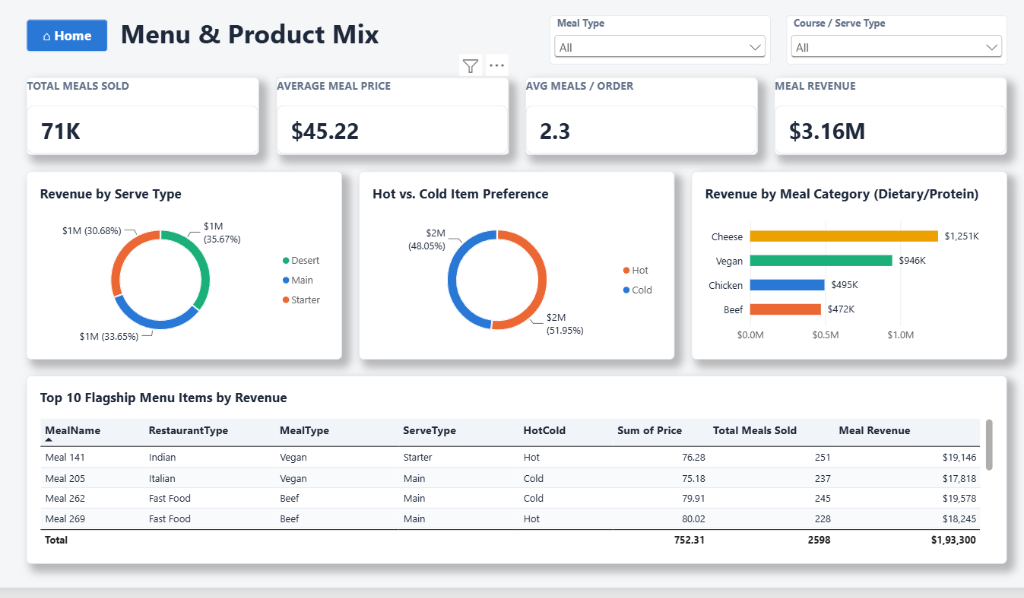

The page's visual inventory and layout, read from the dashboard file:
{"tool":"powerbi","page":{"name":"Menu","canvas":[1280,720],"ordinal":4},"visuals":[{"type":"actionButton","box":[40,25,100,40],"z":0},{"type":"textbox","box":[155,20,500,50],"z":1},{"type":"slicer","fields":{"Values":["meal_types.MealType"]},"box":[680,20,270,60],"z":2},{"type":"slicer","fields":{"Values":["serve_types.ServeType"]},"box":[970,20,270,60],"z":3},{"type":"cardVisual","title":"TOTAL MEALS SOLD","fields":{"Data":["KPI Measures.Total Meals Sold"]},"box":[40,95,285,95],"z":4},{"type":"cardVisual","title":"AVERAGE MEAL PRICE","fields":{"Data":["KPI Measures.Average Meal Price"]},"box":[345,95,285,95],"z":5},{"type":"cardVisual","title":"AVG MEALS / ORDER","fields":{"Data":["KPI Measures.Avg Meals per Completed Order"]},"box":[650,95,285,95],"z":6},{"type":"cardVisual","title":"MEAL REVENUE","fields":{"Data":["KPI Measures.Total Revenue"]},"box":[955,95,285,95],"z":7},{"type":"donutChart","title":"Revenue by Serve Type","fields":{"Category":["serve_types.ServeType"],"Y":["KPI Measures.Meal Revenue"]},"box":[40,210,386,230],"z":8},{"type":"donutChart","title":"Hot vs. Cold Item Preference","fields":{"Category":["meals.HotCold"],"Y":["KPI Measures.Meal Revenue"]},"box":[447,210,386,230],"z":9},{"type":"clusteredBarChart","title":"Revenue by Meal Category (Dietary/Protein)","fields":{"Category":["meal_types.MealType"],"Y":["KPI Measures.Meal Revenue"]},"box":[854,210,386,230],"z":10},{"type":"tableEx","title":"Top 10 Flagship Menu Items by Revenue","fields":{"Values":["meals.MealName","restaurant_types.RestaurantType","meal_types.MealType","serve_types.ServeType","meals.HotCold","Sum(meals.Price)","KPI Measures.Total Meals Sold","KPI Measures.Meal Revenue"]},"box":[40,460,1200,230],"z":11}]}

Visuals, with their boxes on the page's 1280x720 design canvas (x1, y1, x2, y2). These are canvas units, not pixel positions in the 1024x598 screenshot, which may show the page scaled, cropped or inside an application window:
actionButton: [40, 25, 140, 65]
textbox: [155, 20, 655, 70]
slicer - meal_types.MealType: [680, 20, 950, 80]
slicer - serve_types.ServeType: [970, 20, 1240, 80]
"TOTAL MEALS SOLD" cardVisual: [40, 95, 325, 190]
"AVERAGE MEAL PRICE" cardVisual: [345, 95, 630, 190]
"AVG MEALS / ORDER" cardVisual: [650, 95, 935, 190]
"MEAL REVENUE" cardVisual: [955, 95, 1240, 190]
"Revenue by Serve Type" donutChart: [40, 210, 426, 440]
"Hot vs. Cold Item Preference" donutChart: [447, 210, 833, 440]
"Revenue by Meal Category (Dietary/Protein)" clusteredBarChart: [854, 210, 1240, 440]
"Top 10 Flagship Menu Items by Revenue" tableEx: [40, 460, 1240, 690]
